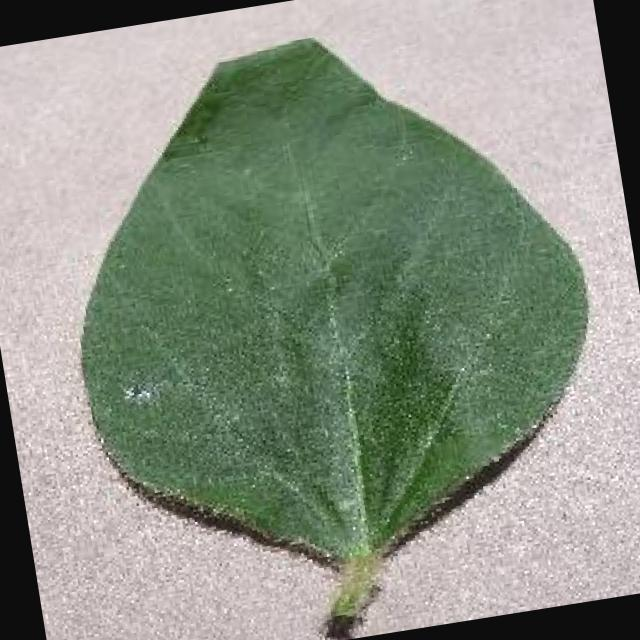healthy: (81, 40, 586, 622)
